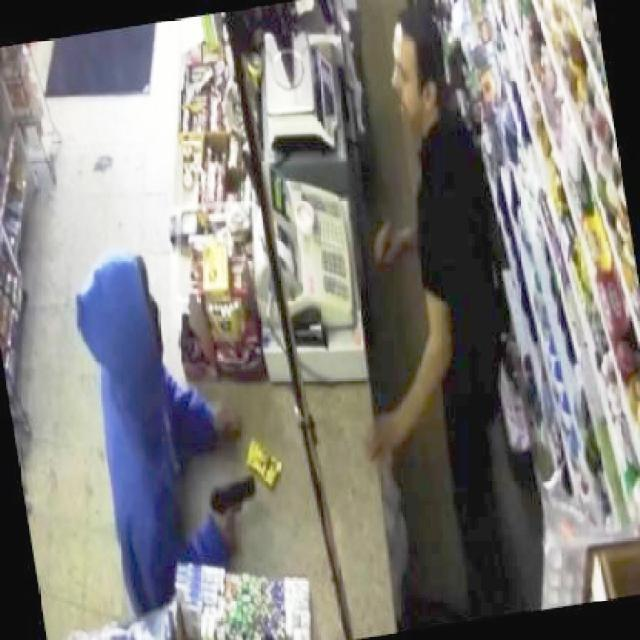Gun: (203, 466, 262, 523)
